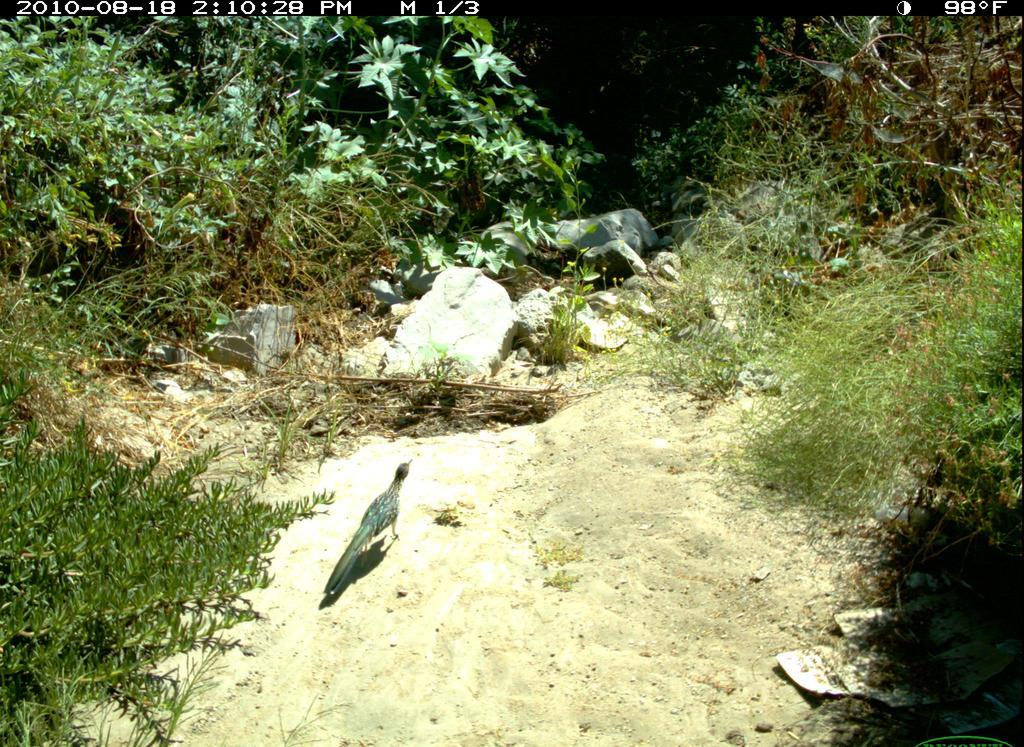bird: (319, 450, 425, 609)
